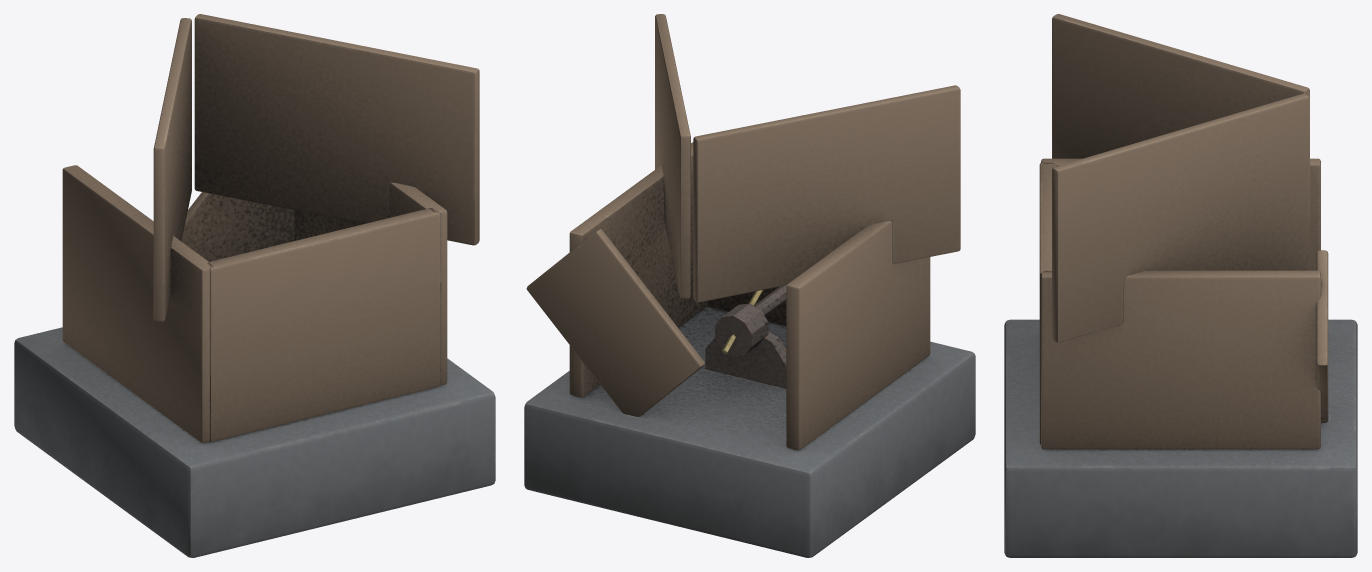
Rendered from seismo_post.glb.
3 views of the same model, side by side, from view 1: azimuth 30°, elevation 25°; view 2: azimuth 150°, elevation 25°; view 3: azimuth 270°, elevation 25° (orthographic). The views are drawn at different scales.
Visible parts, largest first — view 1: seismo_post; view 2: seismo_post; view 3: seismo_post.
Boxes of the visible parts, x1,y1,x2,y2 form: seismo_post: (14, 14, 495, 557); seismo_post: (524, 14, 975, 557); seismo_post: (1004, 14, 1357, 557).
Bounding box in the file's own units: 1.28 × 1.47 × 1.2.
Materials: 1 (1 with a texture image).
